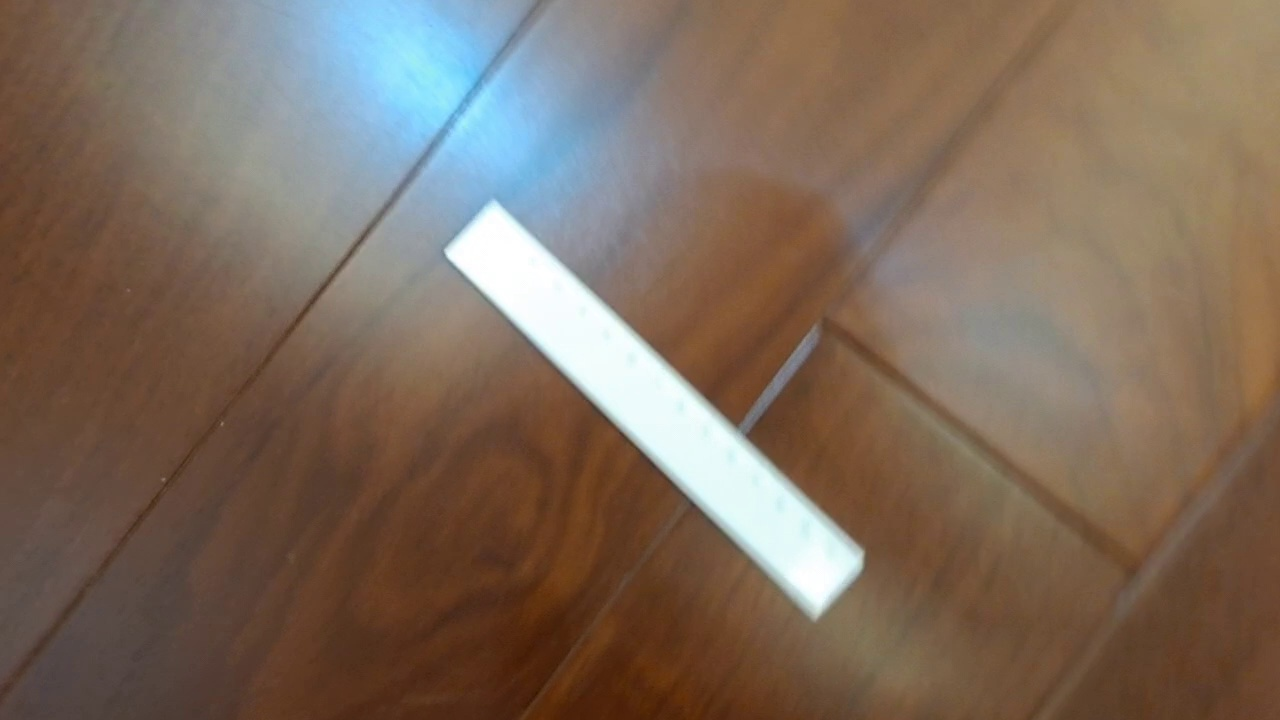ruler: (441, 196, 867, 625)
